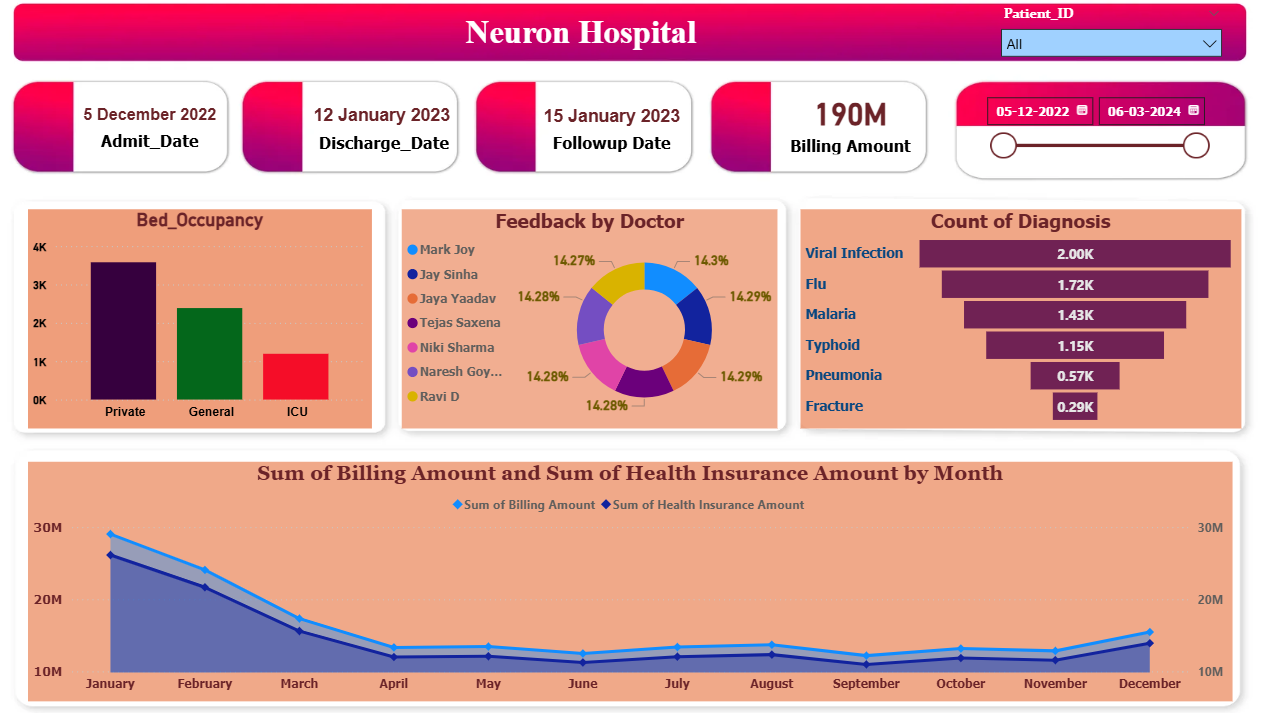

The dashboard page shown, as its layout file describes it:
{"tool":"powerbi","page":{"name":"Page 1","canvas":[1280,720],"ordinal":0},"visuals":[{"type":"slicer","fields":{"Values":["Sheet1.Patient_ID"]},"box":[993.8,12.5,237.5,62.5],"z":0},{"type":"textbox","box":[473.8,20,251.2,47.5],"z":1000},{"type":"card","fields":{"Values":["Min(Sheet1.Admit_Date)"]},"box":[92.5,97.5,153.8,76.2],"z":2000},{"type":"card","fields":{"Values":["Min(Sheet1.Discharge_Date)"]},"box":[318.8,98.8,155,75],"z":3000},{"type":"card","fields":{"Values":["Min(Sheet1.Followup Date)"]},"box":[545,102.5,155,66.2],"z":4000},{"type":"card","fields":{"Values":["Sum(Sheet1.Billing Amount)"]},"box":[778.8,95,155,73.8],"z":5000},{"type":"slicer","fields":{"Values":["Sheet1.Admit_Date"]},"box":[977.5,97.5,238.8,80],"z":6000},{"type":"clusteredColumnChart","title":"Bed_Occupancy","fields":{"Category":["Sheet1.Bed_Occupancy"],"Y":["CountNonNull(Sheet1.Bed_Occupancy)"]},"box":[48.8,217.5,337.5,215],"z":7000},{"type":"donutChart","title":"Feedback by Doctor","fields":{"Category":["Sheet1.Doctor"],"Y":["Sum(Sheet1.Feedback)"]},"box":[416.2,217.5,368.8,215],"z":8000},{"type":"funnel","title":"Count of Diagnosis ","fields":{"Category":["Sheet1.Diagnosis"],"Y":["CountNonNull(Sheet1.Diagnosis)"]},"box":[807.5,217.5,432.5,215],"z":9000},{"type":"areaChart","fields":{"Category":["Sheet1.Admit_Date.Variation.Date Hierarchy.Month"],"Y":["Sum(Sheet1.Billing Amount)"],"Y2":["Sum(Sheet1.Health Insurance Amount)"]},"box":[48.8,465,1182.5,235],"z":10000}]}

Visuals, with their boxes in screenshot pixels (x1, y1, x2, y2), scaled from the page's 1280x720 canvas onto the 1275x713 screenshot:
slicer - Sheet1.Patient_ID: region(990, 12, 1226, 74)
textbox: region(472, 20, 722, 67)
card - Min(Sheet1.Admit_Date): region(92, 97, 245, 172)
card - Min(Sheet1.Discharge_Date): region(318, 98, 472, 172)
card - Min(Sheet1.Followup Date): region(543, 102, 697, 167)
card - Sum(Sheet1.Billing Amount): region(776, 94, 930, 167)
slicer - Sheet1.Admit_Date: region(974, 97, 1212, 176)
"Bed_Occupancy" clusteredColumnChart: region(49, 215, 385, 428)
"Feedback by Doctor" donutChart: region(415, 215, 782, 428)
"Count of Diagnosis " funnel: region(804, 215, 1235, 428)
areaChart - Sheet1.Admit_Date.Variation.Date Hierarchy.Month x Sum(Sheet1.Billing Amount): region(49, 460, 1226, 693)
